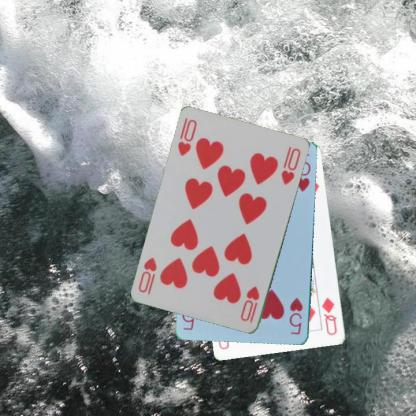10h: (175, 116, 198, 158), (238, 284, 261, 324)
5h: (286, 296, 304, 336)
Qd: (319, 295, 339, 337)
